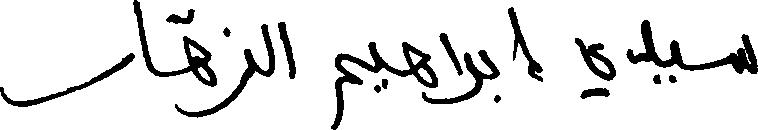X: (574, 15, 654, 103), (183, 4, 217, 122), (219, 22, 254, 114), (509, 2, 541, 86), (402, 37, 436, 108), (334, 48, 362, 129), (0, 82, 65, 111), (441, 28, 461, 108), (134, 0, 153, 78), (731, 29, 757, 78), (278, 17, 294, 83), (481, 45, 498, 107), (463, 46, 479, 105), (261, 19, 274, 81), (369, 37, 381, 97), (671, 35, 680, 87)
